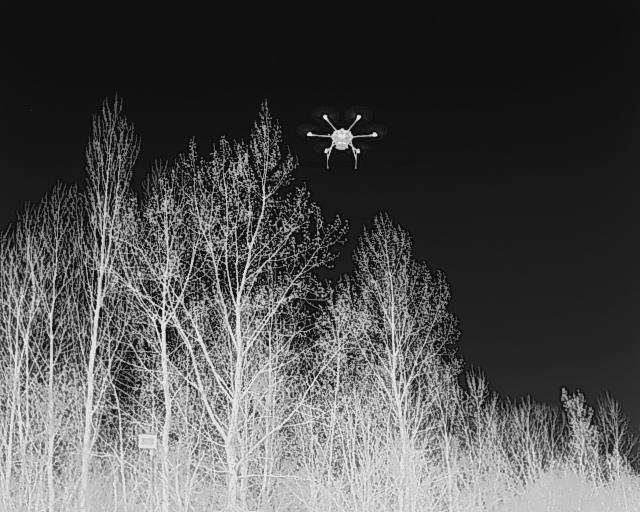drone: (292, 98, 392, 176)
